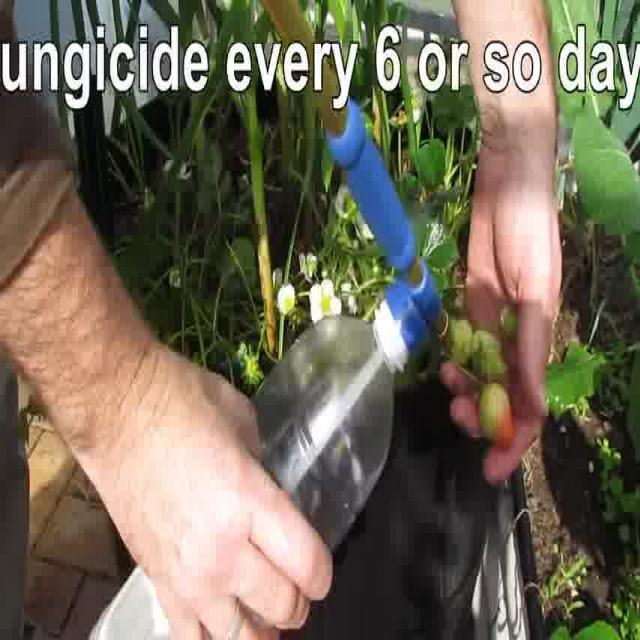Fruta sana: (498, 304, 520, 341)
Moho gris: (476, 381, 516, 448), (472, 330, 509, 380), (444, 316, 474, 365)
